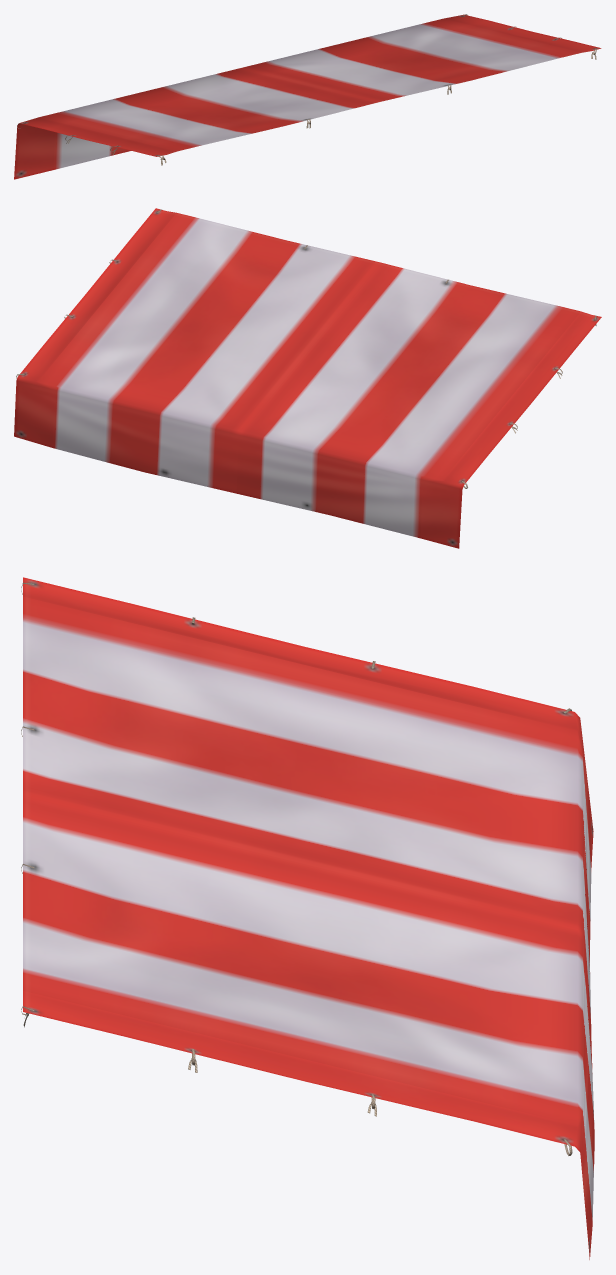
File: jsf_Ceiling_s04_c01_t01.fbx
The picture shows the model from 3 angles, top to bottom: view 1: azimuth 30°, elevation 25°; view 2: azimuth 150°, elevation 25°; view 3: azimuth 270°, elevation 25°; orthographic projection. The views are drawn at different scales.
Visible parts, largest first — view 1: jsf_Ceiling_s04_c01_t01; view 2: jsf_Ceiling_s04_c01_t01; view 3: jsf_Ceiling_s04_c01_t01.
Boxes of the visible parts, x1,y1,x2,y2 form: jsf_Ceiling_s04_c01_t01: (14,14,601,179); jsf_Ceiling_s04_c01_t01: (14,208,601,548); jsf_Ceiling_s04_c01_t01: (21,577,594,1259).
Size of the model in its own units: 394 by 106 by 216.
